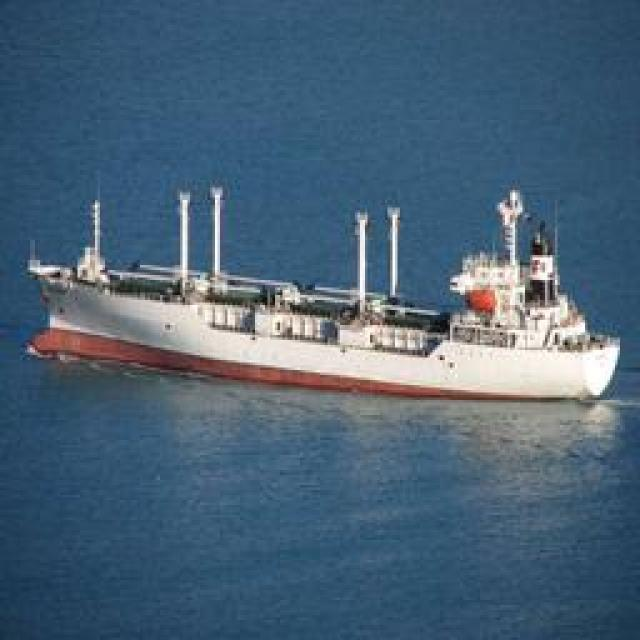Ship: (28, 202, 623, 413)
